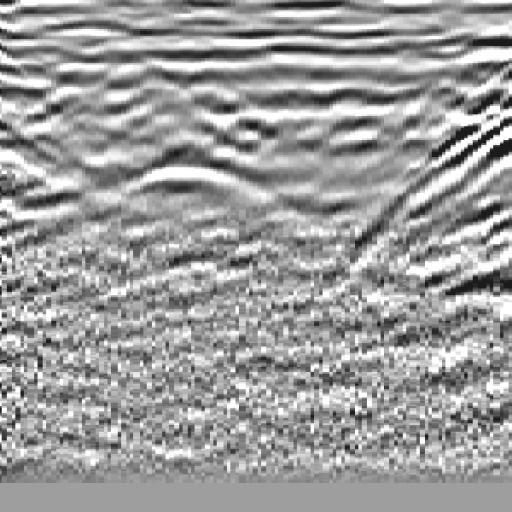metalic: (93, 114, 299, 246)
nonmetalic: (357, 16, 512, 302)
